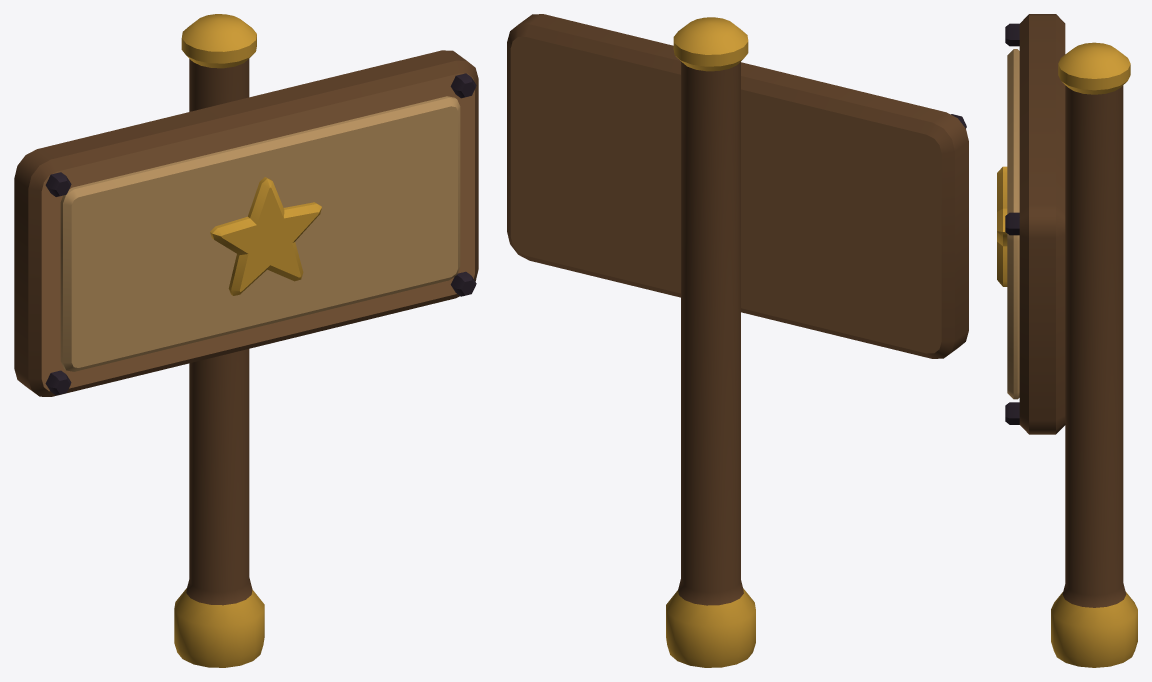
The model's file is Sign_15.glb.
The picture shows the model from 3 angles, left to right: view 1: azimuth 30°, elevation 25°; view 2: azimuth 150°, elevation 25°; view 3: azimuth 270°, elevation 25°; orthographic projection. The views are drawn at different scales.
Parts seen in each view (by area): view 1: Sign_15; view 2: Sign_15; view 3: Sign_15.
Boxes of the visible parts, left/top/right/bottom form: Sign_15: left=14, top=14, right=478, bottom=667; Sign_15: left=507, top=14, right=968, bottom=667; Sign_15: left=997, top=14, right=1137, bottom=667.
Size of the model in its own units: 2.4 by 3.2 by 0.68.
